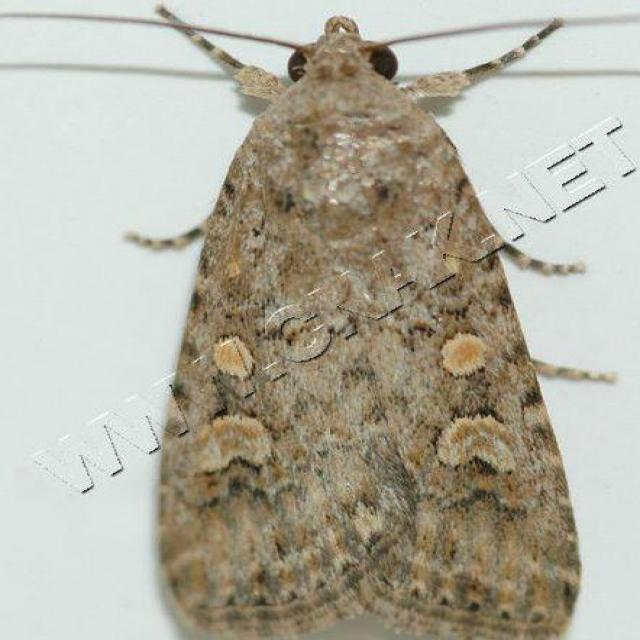armyworm: (136, 1, 585, 640)
